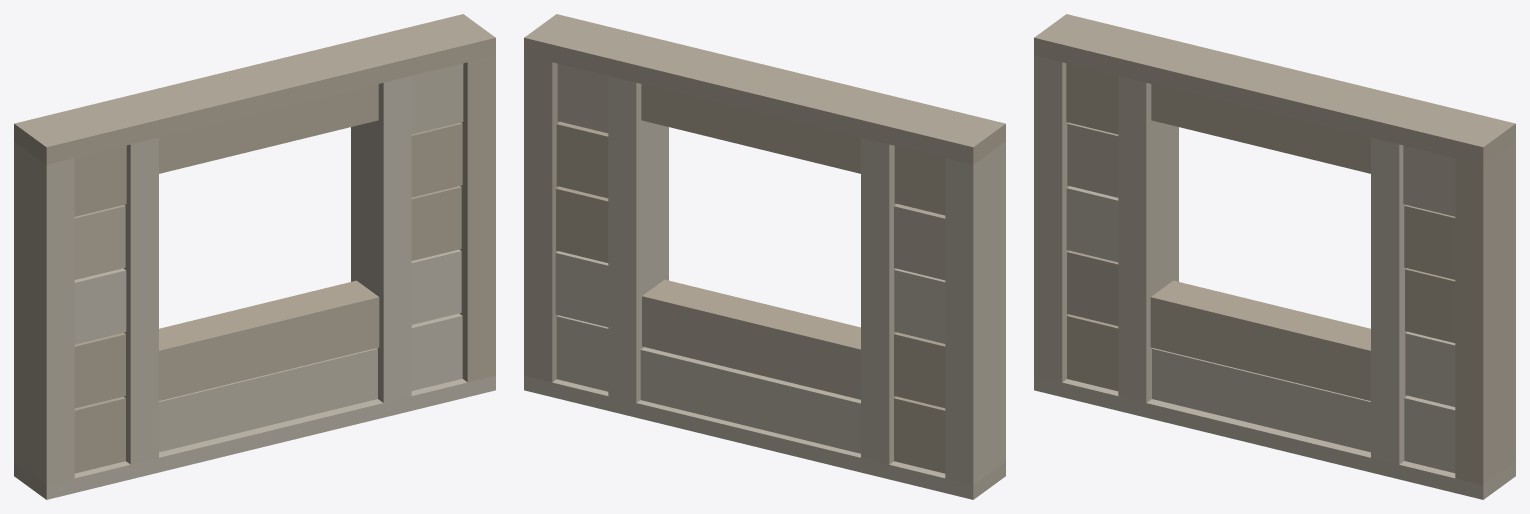
File: WindowWall8.glb
3 views of the same model, side by side, from view 1: azimuth 30°, elevation 25°; view 2: azimuth 150°, elevation 25°; view 3: azimuth 330°, elevation 25° (orthographic).
Visible parts, largest first — view 1: Wood; view 2: Wood; view 3: Wood.
Part boxes in pixels (x1,y1,x2,y2): Wood: (14, 14, 495, 499); Wood: (524, 14, 1005, 499); Wood: (1034, 14, 1515, 499).
Size of what is drawn, in the model's own units: 8 by 6 by 1.
